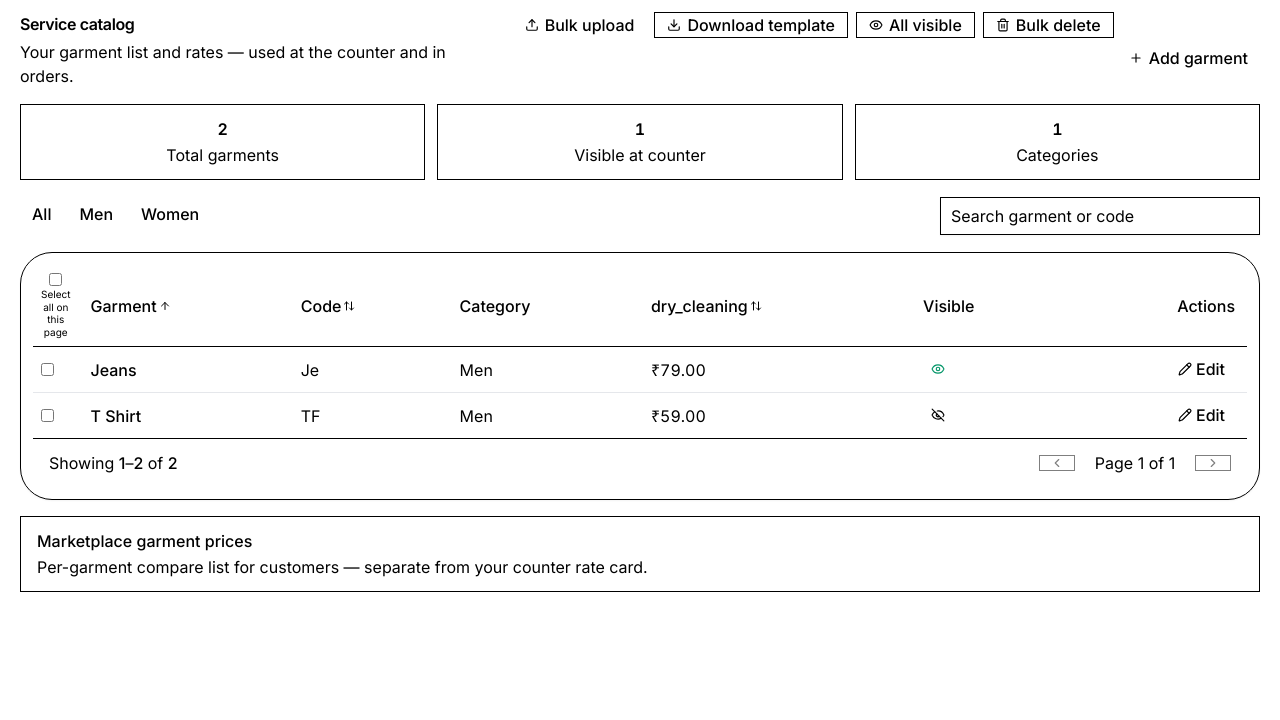
Test: GarmentCatalogPage interactions › toggleSelectAll selects only current page garment ids
Expected: the text "Select all on this page" is shown, left=41, top=288, right=70, bottom=338
What coordinates should you click on to do the following:
click the checkbox with test id "garment-catalog-select-all"
I would click on:
 (56, 280)
Its box is left=49, top=273, right=62, bottom=286.
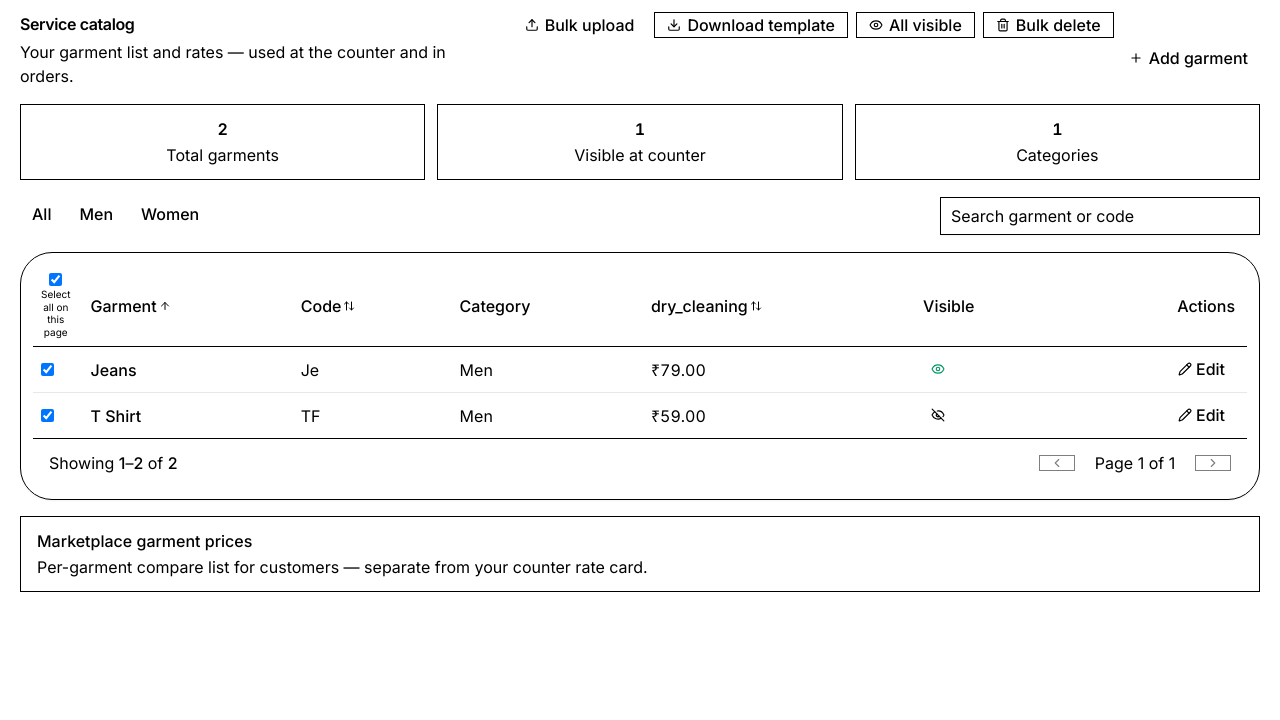
Now the checkbox with test id "garment-select-TF" is checked, box left=41, top=408, right=54, bottom=422
Now the checkbox with test id "garment-select-Je" is checked, box left=41, top=362, right=54, bottom=376
What coordinates should you click on to do the following:
click the checkbox with test id "garment-catalog-select-all"
I would click on:
 (56, 280)
Its box is left=49, top=273, right=62, bottom=286.
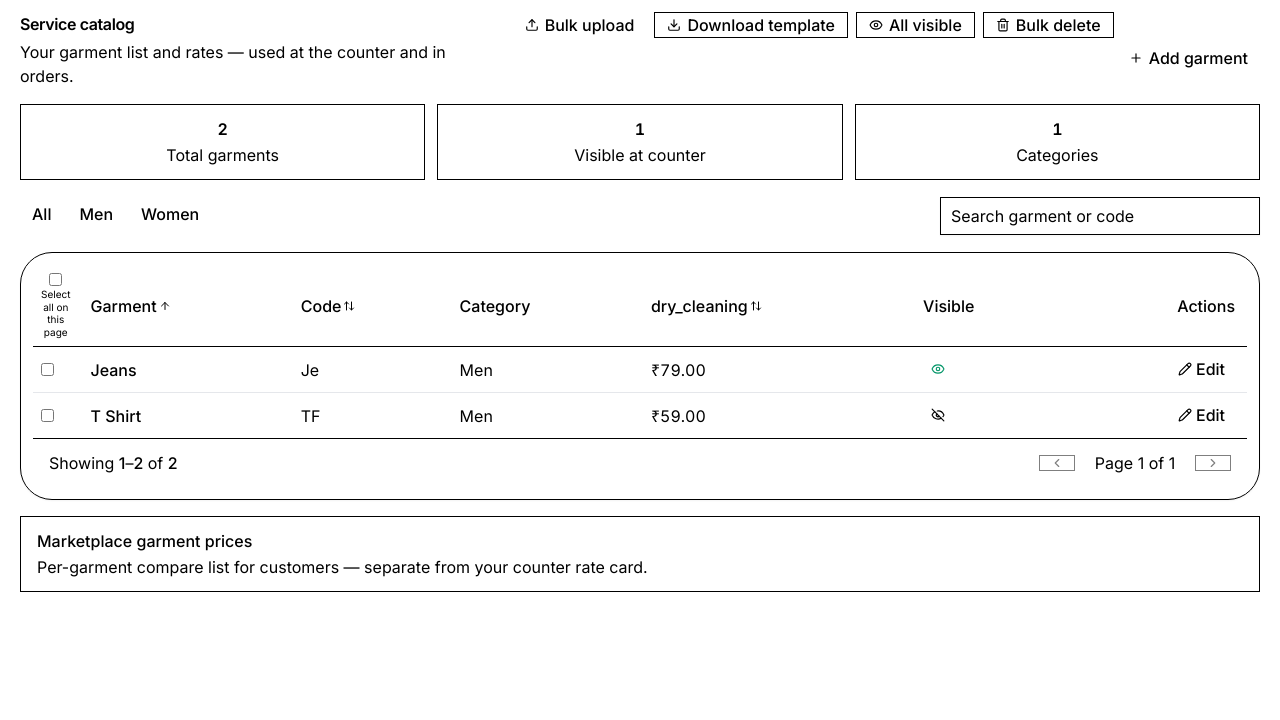
Now the checkbox with test id "garment-select-TF" is not checked, box left=41, top=408, right=54, bottom=422
Now the checkbox with test id "garment-select-Je" is not checked, box left=41, top=362, right=54, bottom=376
